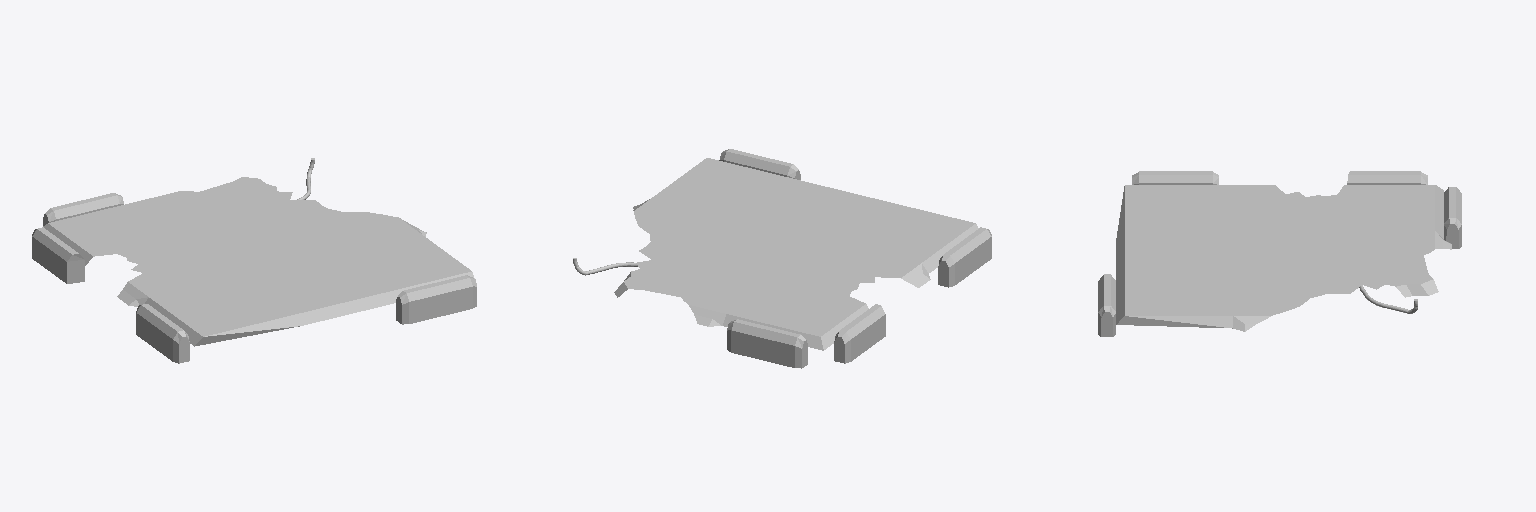
The model's file is ModelComponentBrokenSL.obj.
The picture shows the model from 3 angles: view 1: azimuth 30°, elevation 25°; view 2: azimuth 150°, elevation 25°; view 3: azimuth 270°, elevation 25°; orthographic projection.
Visible parts, largest first — view 1: ModelComponent; view 2: ModelComponent; view 3: ModelComponent.
Boxes of the visible parts, x1=… form: ModelComponent: x1=32, y1=158, x2=476, y2=363; ModelComponent: x1=573, y1=149, x2=991, y2=368; ModelComponent: x1=1098, y1=171, x2=1461, y2=336.
Bounding box in the file's own units: 1.95 × 0.2066 × 2.